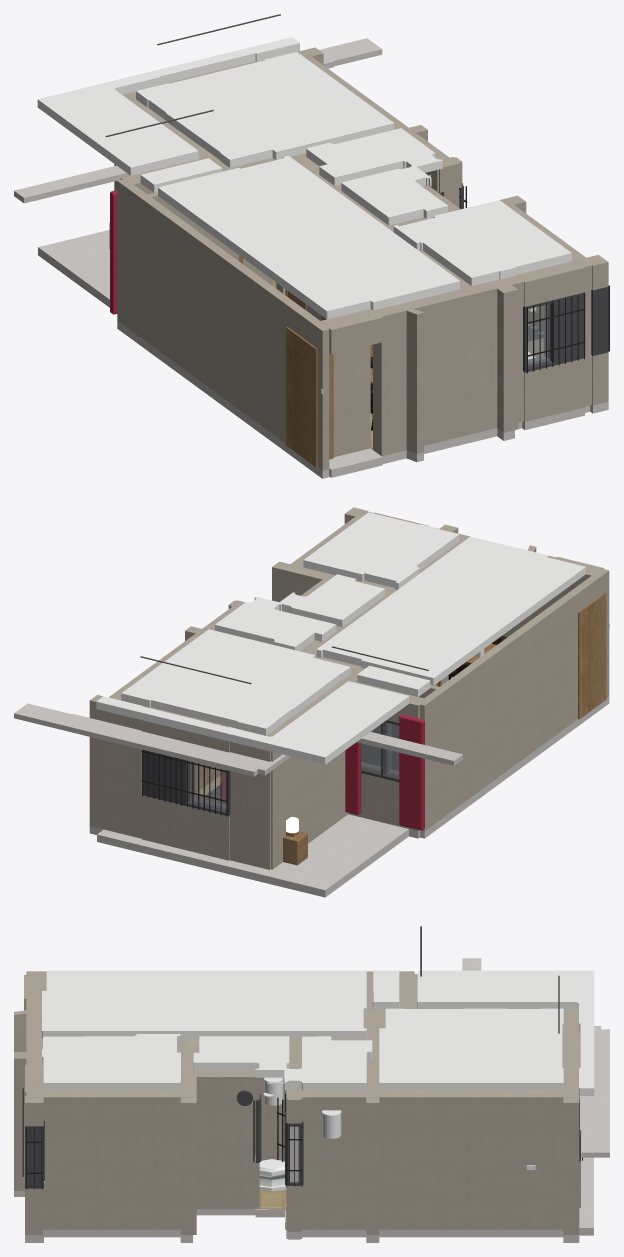
The model's file is kk_unit_C.glb.
The picture shows the model from 3 angles, top to bottom: view 1: azimuth 30°, elevation 25°; view 2: azimuth 150°, elevation 25°; view 3: azimuth 270°, elevation 25°; orthographic projection. The views are drawn at different scales.
Visible parts, largest first — view 1: Ceiling, ArchWalls, Slab, DoorFrames, WindowFrames, Chajja, Railings, Glass, curtain_0; view 2: Ceiling, ArchWalls, Slab, Chajja, WindowFrames, DoorFrames, curtain_0, Glass, Railings, curtain_0.001, bed_double_0_side; view 3: ArchWalls, Ceiling, Slab, Chajja, WindowFrames, Railings, geyser_78, Floor_C2_living, toilet(Clone).001, geyser_81, Glass.
Boxes of the visible parts, box(x1,y1,x2,y2) form: Ceiling: box(37, 37, 571, 319); ArchWalls: box(114, 47, 608, 470); Slab: box(38, 230, 608, 478); DoorFrames: box(239, 255, 333, 467); WindowFrames: box(430, 185, 608, 372); Chajja: box(14, 38, 382, 203); Railings: box(442, 183, 609, 373); Glass: box(528, 304, 549, 364); curtain_0: box(110, 190, 117, 314); Ceiling: box(96, 512, 585, 764); ArchWalls: box(89, 507, 609, 869); Slab: box(89, 696, 609, 897); Chajja: box(14, 703, 462, 776); WindowFrames: box(143, 720, 399, 816); DoorFrames: box(578, 593, 606, 719); curtain_0: box(399, 714, 424, 830); Glass: box(190, 723, 398, 809); Railings: box(141, 749, 227, 816); curtain_0.001: box(345, 742, 361, 814); bed_double_0_side: box(283, 831, 307, 865); ArchWalls: box(14, 971, 580, 1234); Ceiling: box(42, 970, 594, 1095); Slab: box(14, 1135, 593, 1242); Chajja: box(462, 958, 609, 1157); WindowFrames: box(25, 1093, 580, 1188); Railings: box(22, 1088, 582, 1189); geyser_78: box(322, 1110, 341, 1138); Floor_C2_living: box(257, 1189, 286, 1220); toilet(Clone).001: box(259, 1169, 286, 1191); geyser_81: box(264, 1077, 283, 1105); Glass: box(290, 1127, 298, 1182).
Bounding box in the file's own units: 8.05 × 3.66 × 10.43.
35 materials, 15 textured.
